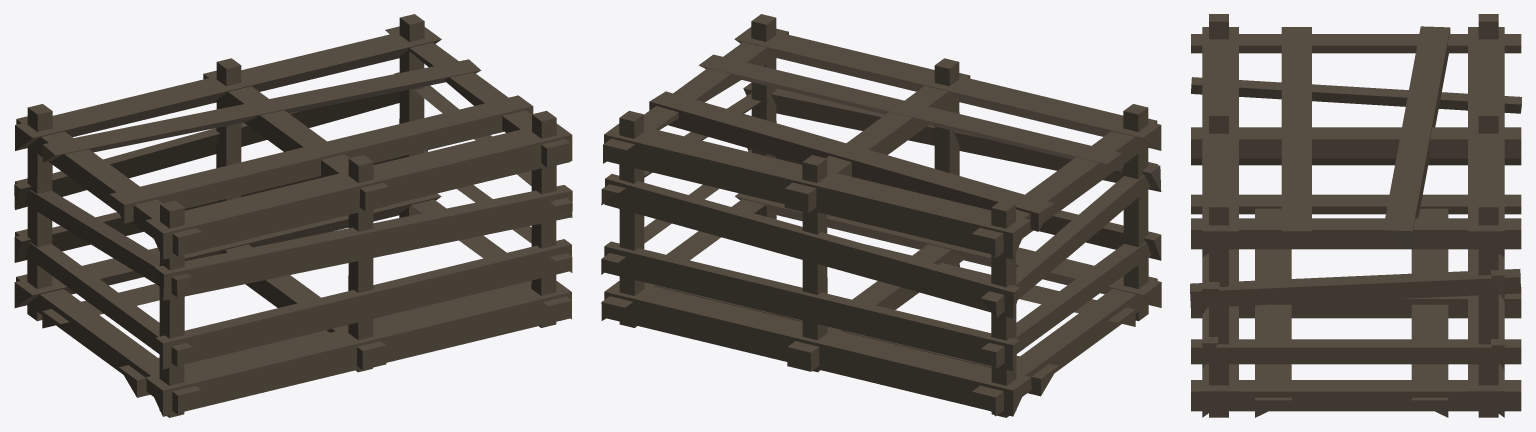
Rendered from Cassetta.fbx.
The picture shows the model from 3 angles, left to right: view 1: azimuth 30°, elevation 25°; view 2: azimuth 150°, elevation 25°; view 3: azimuth 270°, elevation 25°; orthographic projection.
Parts seen in each view (by area): view 1: SM_Prop_Stack_20.001; view 2: SM_Prop_Stack_20.001; view 3: SM_Prop_Stack_20.001.
Part boxes in pixels (x1=…): SM_Prop_Stack_20.001: x1=14, y1=14, x2=572, y2=417; SM_Prop_Stack_20.001: x1=601, y1=14, x2=1161, y2=417; SM_Prop_Stack_20.001: x1=1190, y1=14, x2=1521, y2=417.
Bounding box in the file's own units: 79.03 × 38.17 × 54.27.
Materials: 1 (1 with a texture image).
